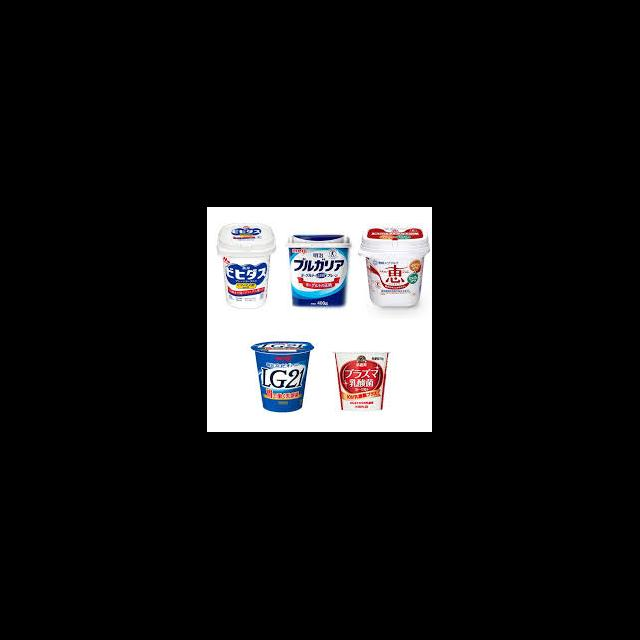plastic: (356, 228, 429, 306), (217, 224, 276, 308), (284, 234, 352, 306), (250, 342, 314, 411), (332, 351, 389, 412), (358, 227, 430, 256), (216, 222, 276, 256), (286, 234, 352, 248)
